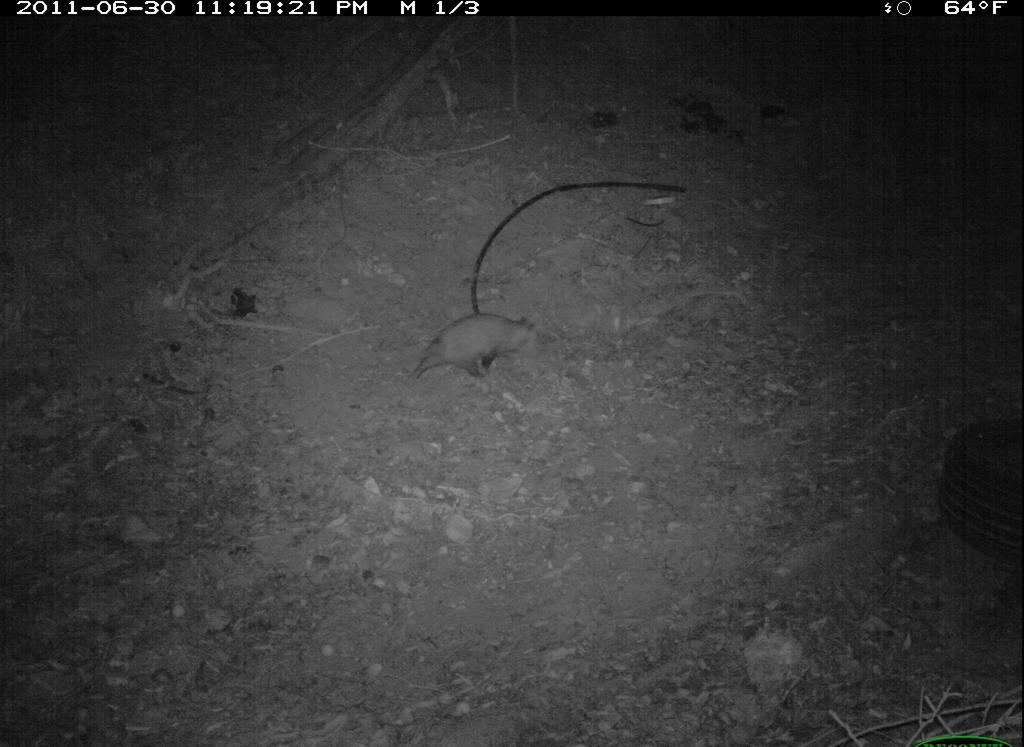opossum: (385, 313, 550, 391)
